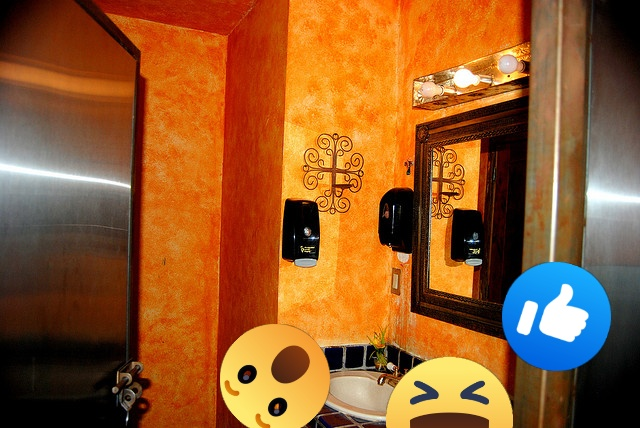haha: (386, 357, 513, 428)
like: (502, 262, 611, 371)
wow: (220, 324, 330, 428)
